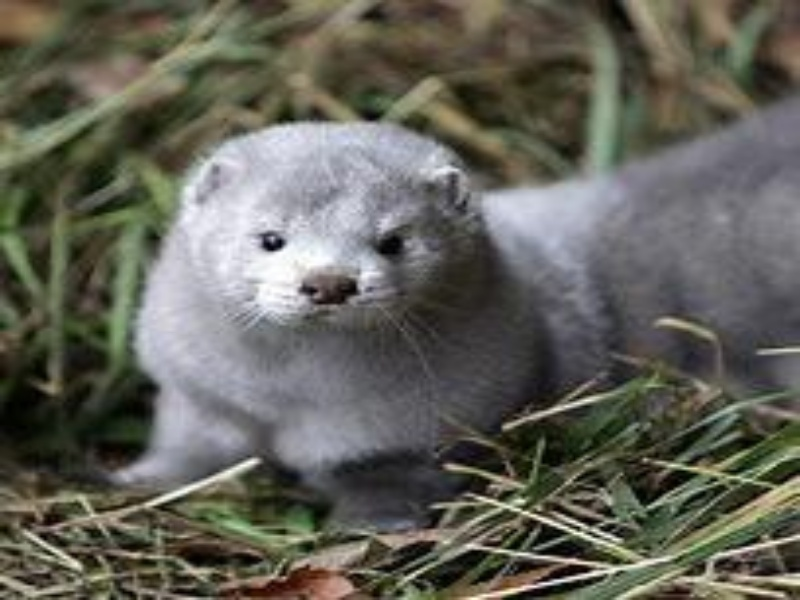minkish: (103, 92, 800, 504)
